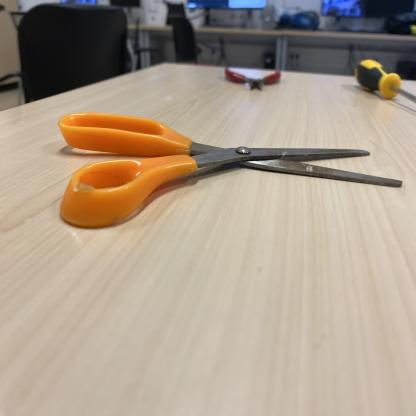scissors: (58, 110, 406, 230)
